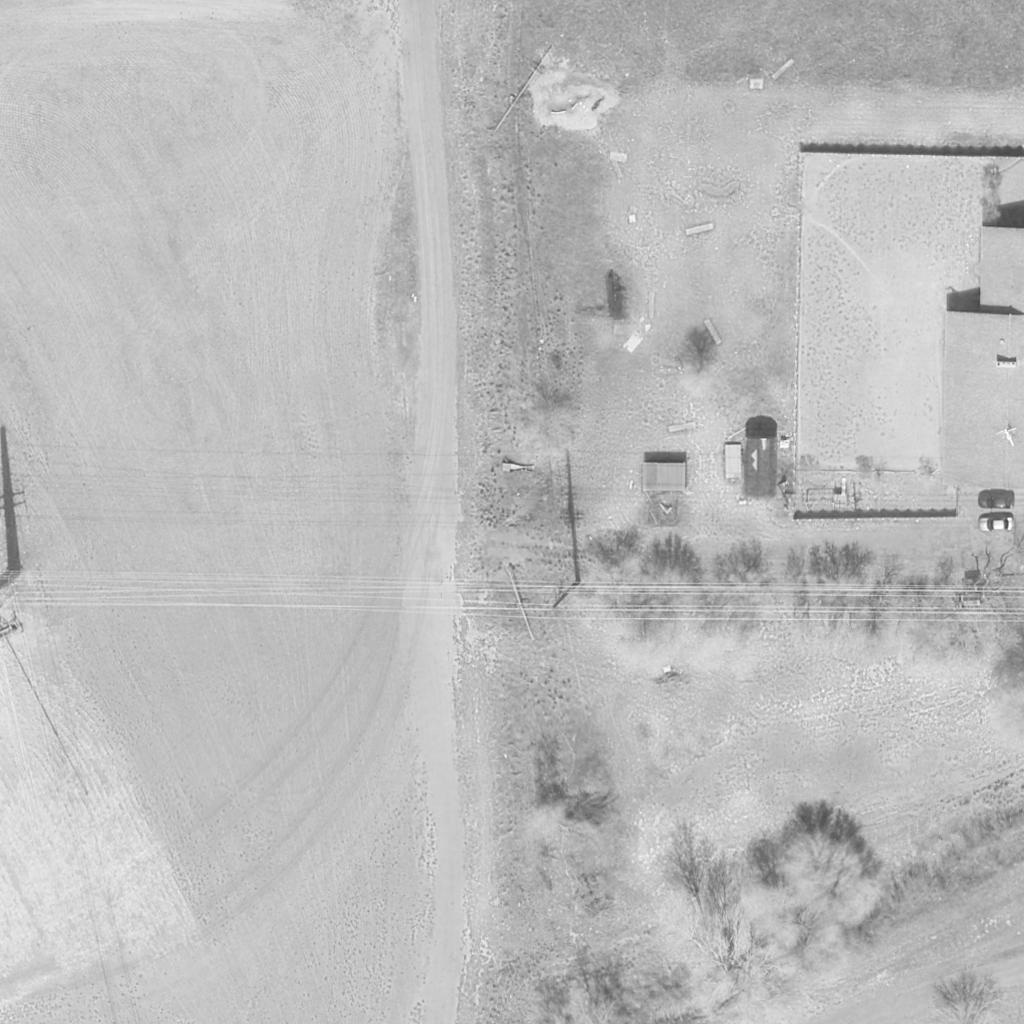vehicle: (977, 514, 1015, 532), (980, 492, 1016, 510)
